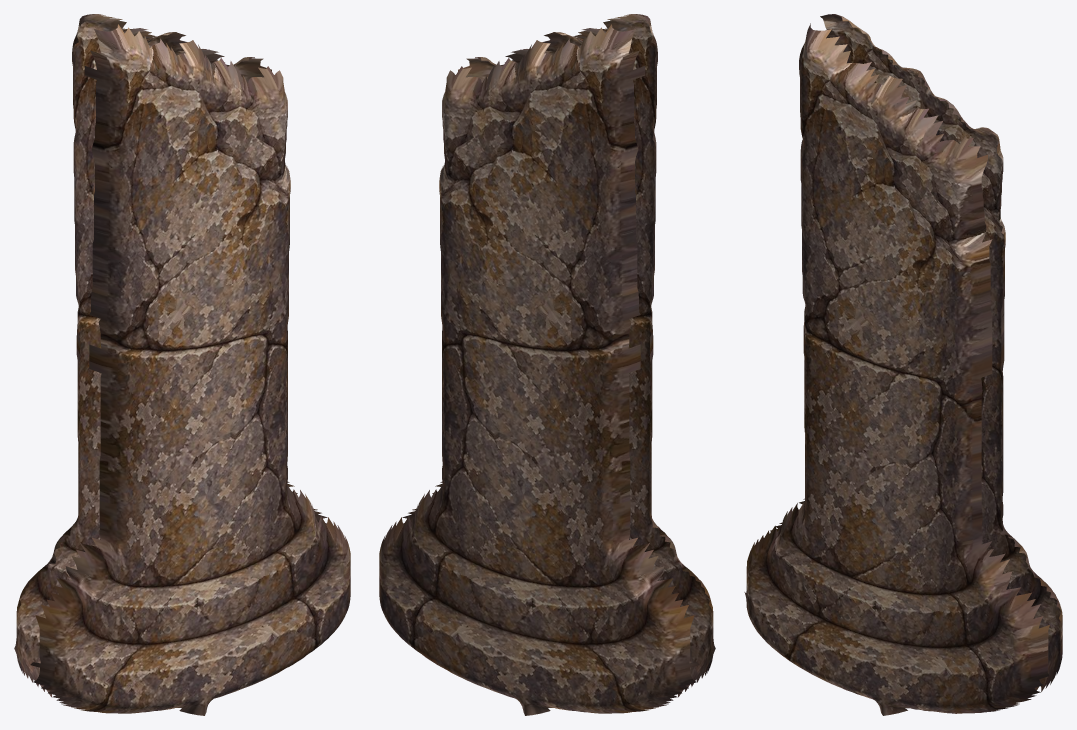
The model's file is v4-crypt-door-scatter-broken-column.glb.
3 renders of one model, left to right at view 1: azimuth 30°, elevation 25°; view 2: azimuth 150°, elevation 25°; view 3: azimuth 330°, elevation 25°, orthographic. The views are drawn at different scales.
Parts seen in each view (by area): view 1: v4-crypt-door-scatter-broken-column; view 2: v4-crypt-door-scatter-broken-column; view 3: v4-crypt-door-scatter-broken-column.
Boxes of the visible parts, bbox=[...] form: v4-crypt-door-scatter-broken-column: bbox=[14, 14, 350, 715]; v4-crypt-door-scatter-broken-column: bbox=[379, 14, 715, 715]; v4-crypt-door-scatter-broken-column: bbox=[744, 14, 1062, 715].
Size of the model in its own units: 0.8723 by 1.82 by 0.2124.
Materials: 1 (1 with a texture image).
